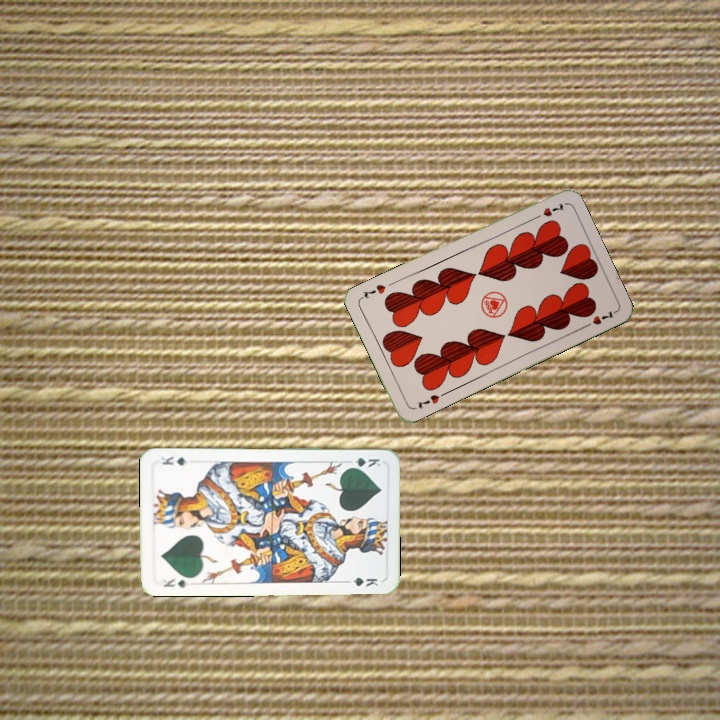GK: (343, 454, 383, 470), (160, 574, 191, 590)
H7: (529, 199, 567, 222), (413, 390, 442, 412)
